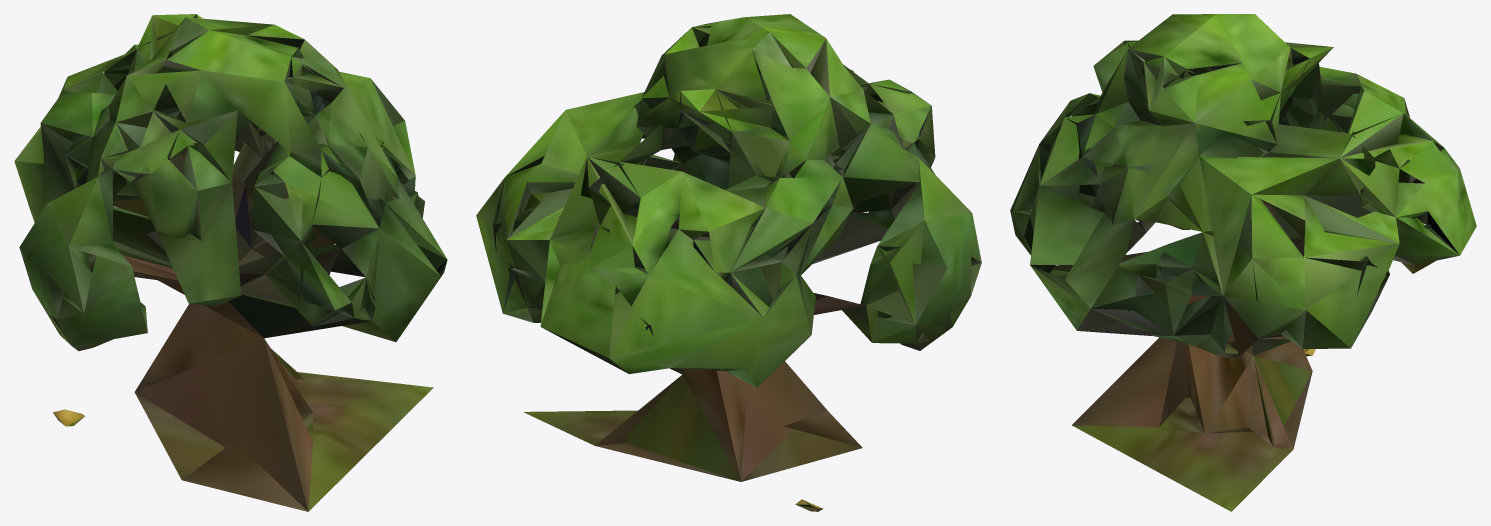
File: tree_old_grass_disc_lod1.glb
The picture shows the model from 3 angles, left to right: view 1: azimuth 30°, elevation 25°; view 2: azimuth 150°, elevation 25°; view 3: azimuth 270°, elevation 25°; orthographic projection. The views are drawn at different scales.
Parts seen in each view (by area): view 1: tree_old_grass_disc_lod1; view 2: tree_old_grass_disc_lod1; view 3: tree_old_grass_disc_lod1.
Part boxes in pixels (x1,y1,x2,y2): tree_old_grass_disc_lod1: (14, 14, 447, 511); tree_old_grass_disc_lod1: (476, 14, 981, 511); tree_old_grass_disc_lod1: (1010, 14, 1476, 511).
Bounding box in the file's own units: 7.65 × 7.5 × 7.9.
Materials: 1 (1 with a texture image).
